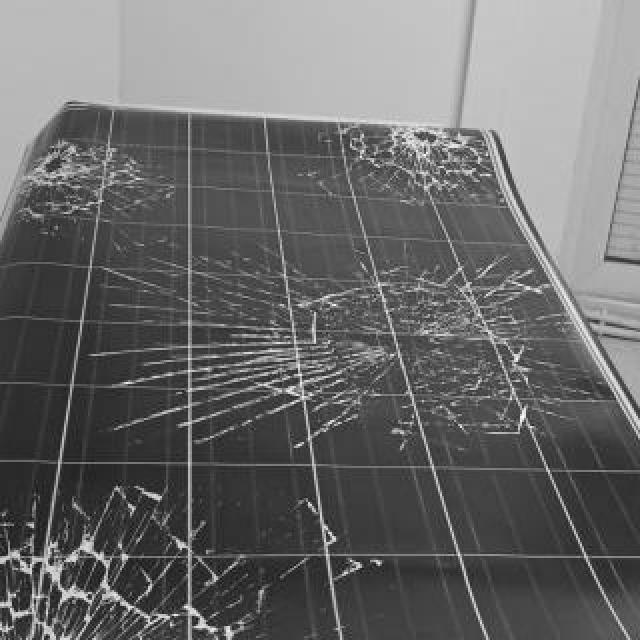Physical-damage: (81, 225, 608, 464), (0, 470, 397, 640), (6, 133, 180, 260), (309, 123, 506, 207)
